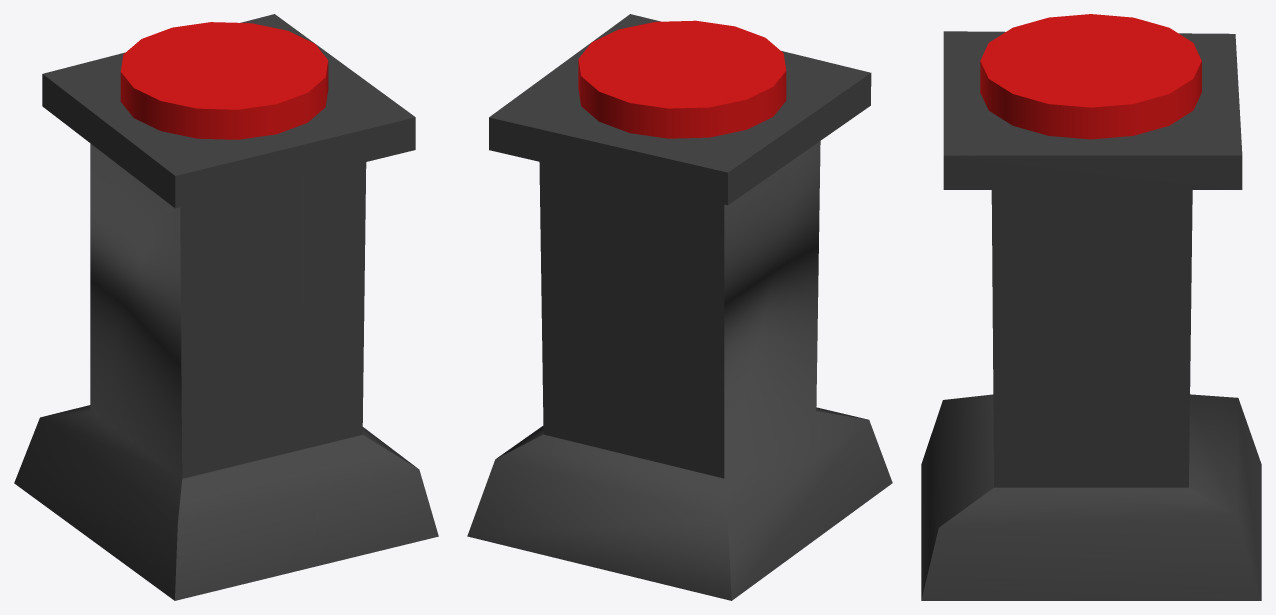
The model's file is platformWButton.fbx.
The picture shows the model from 3 angles, left to right: view 1: azimuth 30°, elevation 25°; view 2: azimuth 150°, elevation 25°; view 3: azimuth 270°, elevation 25°; orthographic projection. The views are drawn at different scales.
Visible parts, largest first — view 1: Cylinder001; view 2: Cylinder001; view 3: Cylinder001.
Part boxes in pixels (x1,y1,x2,y2): Cylinder001: [14, 14, 438, 600]; Cylinder001: [467, 14, 892, 600]; Cylinder001: [921, 14, 1261, 600].
Size of the model in its own units: 2.7 by 4.34 by 2.84.
1 material, 1 textured.
